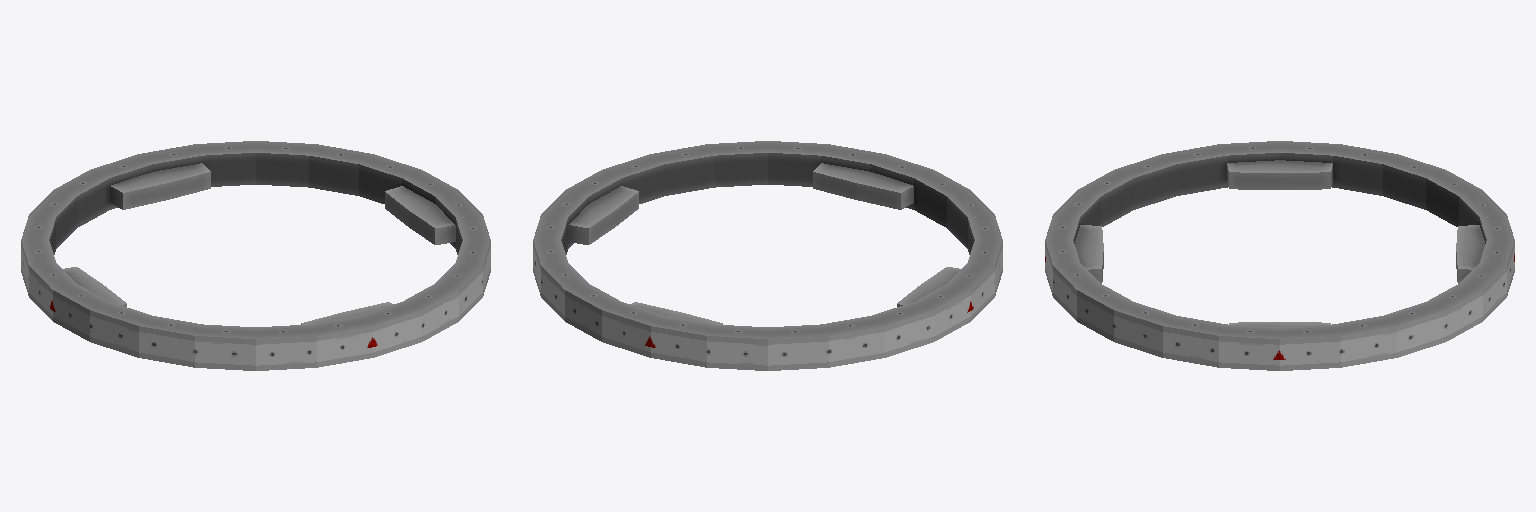
3 renders of one model, left to right at view 1: azimuth 30°, elevation 25°; view 2: azimuth 150°, elevation 25°; view 3: azimuth 270°, elevation 25°, orthographic.
Visible parts, largest first — view 1: Arrow_Decoupler_A; view 2: Arrow_Decoupler_A; view 3: Arrow_Decoupler_A.
Boxes of the visible parts, x1=… form: Arrow_Decoupler_A: x1=21, y1=141, x2=490, y2=370; Arrow_Decoupler_A: x1=533, y1=141, x2=1002, y2=370; Arrow_Decoupler_A: x1=1045, y1=141, x2=1514, y2=370.
Bounding box in the file's own units: 1.25 × 0.0938 × 1.25.
1 materials, 1 textured.